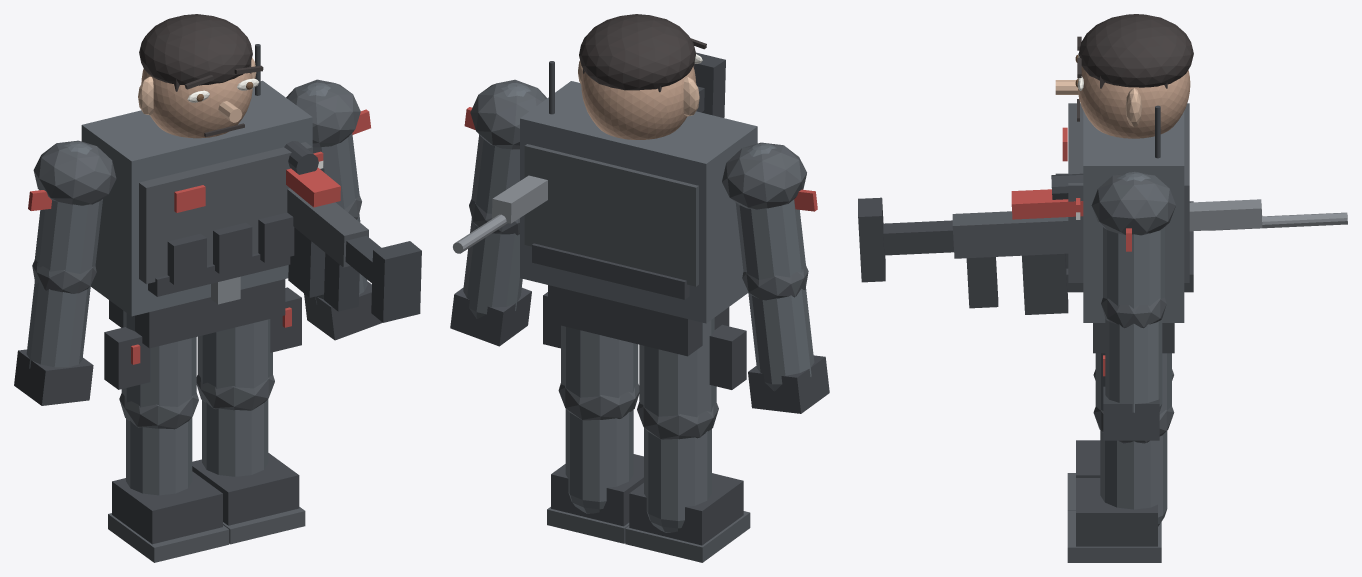
The model's file is prabowo-enemy-v1.glb.
3 views of the same model, side by side, from view 1: azimuth 30°, elevation 25°; view 2: azimuth 150°, elevation 25°; view 3: azimuth 270°, elevation 25° (orthographic). The views are drawn at different scales.
Visible parts, largest first — view 1: Body, LeftLeg, RightLeg, LeftArm, Rifle, Head, RightArm, Pelvis; view 2: Body, LeftLeg, LeftArm, RightLeg, RightArm, Head, Pelvis, Rifle; view 3: Rifle, RightArm, Body, Head, RightLeg, LeftLeg, Pelvis.
Part boxes in pixels (bbox=[...]): Body: bbox=[81, 80, 323, 316]; LeftLeg: bbox=[104, 310, 229, 562]; RightLeg: bbox=[192, 287, 305, 544]; LeftArm: bbox=[14, 140, 116, 405]; Rifle: bbox=[284, 141, 421, 322]; Head: bbox=[138, 14, 263, 138]; RightArm: bbox=[286, 79, 382, 340]; Pelvis: bbox=[109, 276, 285, 348]; Body: bbox=[520, 81, 757, 323]; LeftLeg: bbox=[625, 318, 750, 562]; LeftArm: bbox=[722, 142, 829, 413]; RightLeg: bbox=[543, 292, 643, 543]; RightArm: bbox=[450, 79, 546, 346]; Head: bbox=[578, 14, 706, 139]; Pelvis: bbox=[548, 285, 729, 356]; Rifle: bbox=[453, 52, 725, 253]; Rifle: bbox=[858, 173, 1347, 314]; RightArm: bbox=[1091, 171, 1175, 440]; Body: bbox=[1055, 103, 1193, 322]; Head: bbox=[1055, 14, 1193, 138]; RightLeg: bbox=[1067, 353, 1174, 562]; LeftLeg: bbox=[1067, 369, 1173, 510]; Pelvis: bbox=[1093, 323, 1174, 353].
Bounding box in the file's own units: 1.66 × 2.31 × 2.04.
7 materials, 5 textured.
